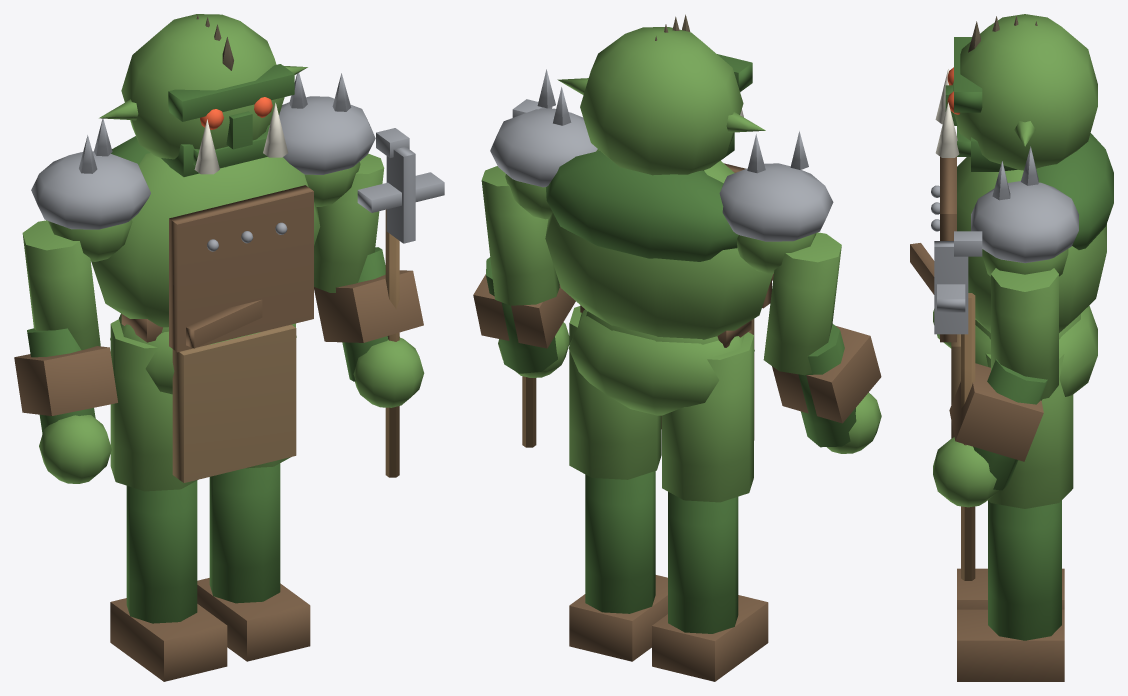
Rendered from orco_guerrero.glb.
The picture shows the model from 3 angles, left to right: view 1: azimuth 30°, elevation 25°; view 2: azimuth 150°, elevation 25°; view 3: azimuth 270°, elevation 25°; orthographic projection.
Parts seen in each view (by area): view 1: Grupo_2_14piezas, Grupo_0_7piezas, Grupo_1_10piezas, Grupo_3_12piezas, Or_Taparrabos_Frente, Or_Mango, Grupo_5_2piezas, Grupo_4_2piezas; view 2: Grupo_2_14piezas, Grupo_1_10piezas, Grupo_0_7piezas, Grupo_3_12piezas, Or_Mango; view 3: Grupo_2_14piezas, Grupo_1_10piezas, Grupo_0_7piezas, Grupo_3_12piezas, Or_Mango, Grupo_5_2piezas, Or_Taparrabos_Frente.
Boxes of the visible parts, <box> form: Grupo_2_14piezas: <box>22,14,424,491</box>; Grupo_0_7piezas: <box>14,185,423,681</box>; Grupo_1_10piezas: <box>27,64,388,623</box>; Grupo_3_12piezas: <box>31,73,444,251</box>; Or_Taparrabos_Frente: <box>172,324,296,482</box>; Or_Mango: <box>385,209,399,477</box>; Grupo_5_2piezas: <box>194,102,288,174</box>; Grupo_4_2piezas: <box>200,97,272,129</box>; Grupo_2_14piezas: <box>481,27,881,502</box>; Grupo_1_10piezas: <box>486,54,856,633</box>; Grupo_0_7piezas: <box>473,163,881,681</box>; Grupo_3_12piezas: <box>490,69,833,241</box>; Or_Mango: <box>522,376,536,447</box>; Grupo_2_14piezas: <box>933,14,1106,508</box>; Grupo_1_10piezas: <box>945,37,1113,640</box>; Grupo_0_7piezas: <box>910,156,1064,681</box>; Grupo_3_12piezas: <box>931,146,1078,334</box>; Or_Mango: <box>961,293,975,580</box>; Grupo_5_2piezas: <box>935,69,959,157</box>; Or_Taparrabos_Frente: <box>951,334,960,438</box>.
Size of the model in its own units: 1.58 by 2.45 by 0.7178.
